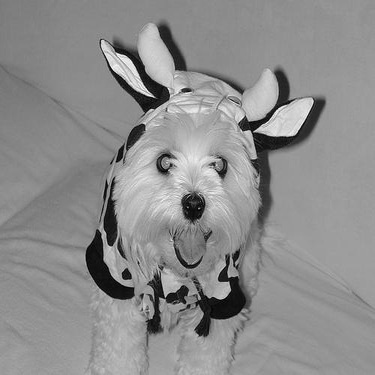dog: (61, 10, 286, 373)
